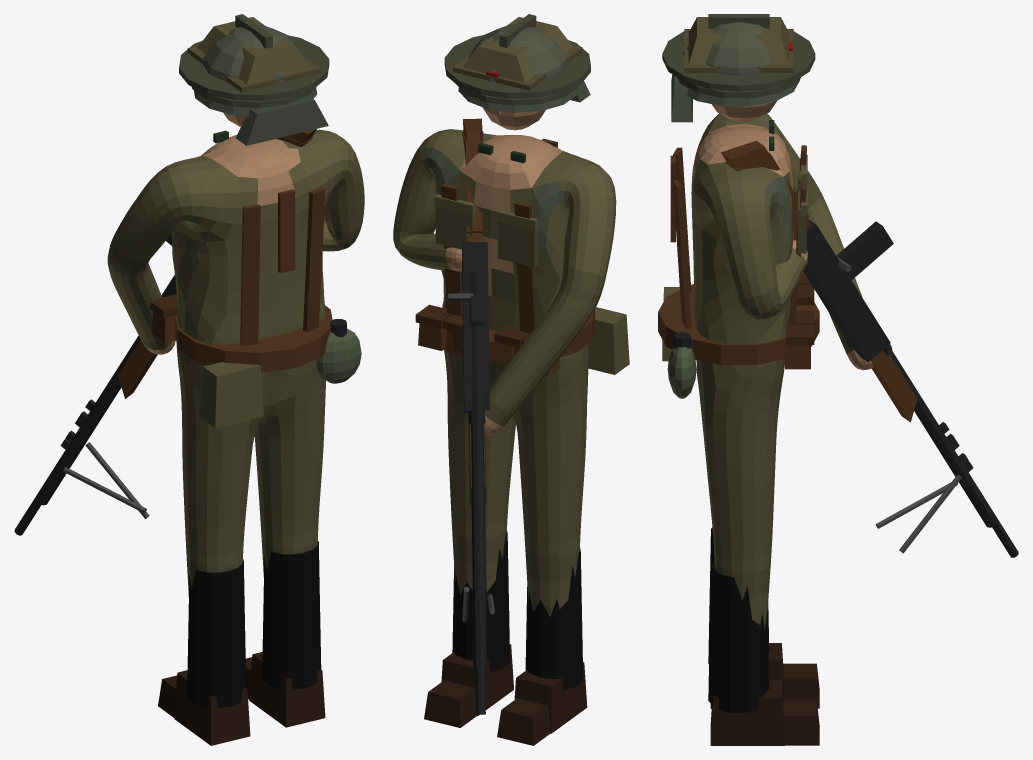
The model's file is soldiers.glb.
The picture shows the model from 3 angles, left to right: view 1: azimuth 30°, elevation 25°; view 2: azimuth 150°, elevation 25°; view 3: azimuth 270°, elevation 25°; orthographic projection. The views are drawn at different scales.
Visible parts, largest first — view 1: inf_france, inf_germany, inf_generic, mg_france, inf_uk, inf_soviet, mg_uk; view 2: inf_france, inf_germany, mg_france, inf_generic, inf_uk, inf_soviet, inf_usa, mg_uk, inf_japan; view 3: inf_france, mg_france, inf_germany, inf_uk, inf_generic, inf_soviet, mg_uk.
Part boxes in pixels (x1,y1,x2,y2): inf_france: [85, 14, 364, 745]; inf_germany: [184, 63, 328, 707]; inf_generic: [39, 17, 320, 491]; mg_france: [35, 136, 313, 518]; inf_uk: [75, 35, 329, 427]; inf_soviet: [22, 25, 304, 523]; mg_uk: [179, 35, 328, 94]; inf_france: [393, 14, 629, 745]; inf_germany: [426, 61, 590, 689]; mg_france: [462, 131, 494, 667]; inf_generic: [453, 17, 582, 658]; inf_uk: [444, 35, 590, 567]; inf_soviet: [468, 24, 566, 697]; inf_usa: [474, 423, 483, 655]; mg_uk: [444, 38, 589, 589]; inf_japan: [476, 70, 499, 714]; inf_france: [658, 14, 949, 745]; mg_france: [725, 152, 998, 553]; inf_germany: [671, 45, 848, 712]; inf_uk: [662, 31, 959, 449]; inf_generic: [684, 17, 993, 513]; inf_soviet: [688, 22, 1011, 545]; mg_uk: [663, 31, 814, 85].
Size of the model in its own units: 0.6077 by 1.77 by 0.8256.
